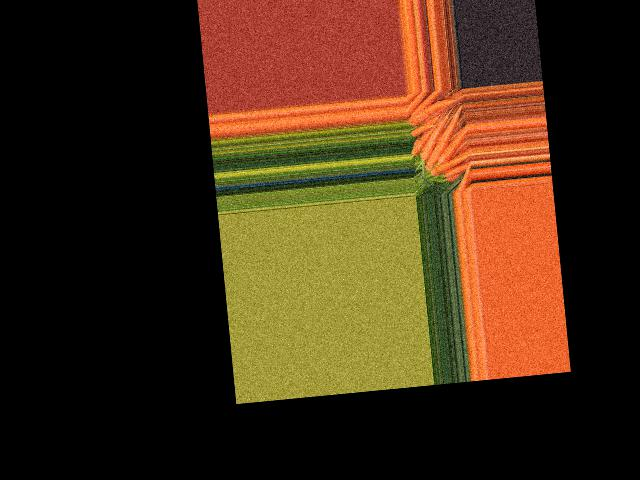carrot: (435, 124, 471, 164)
